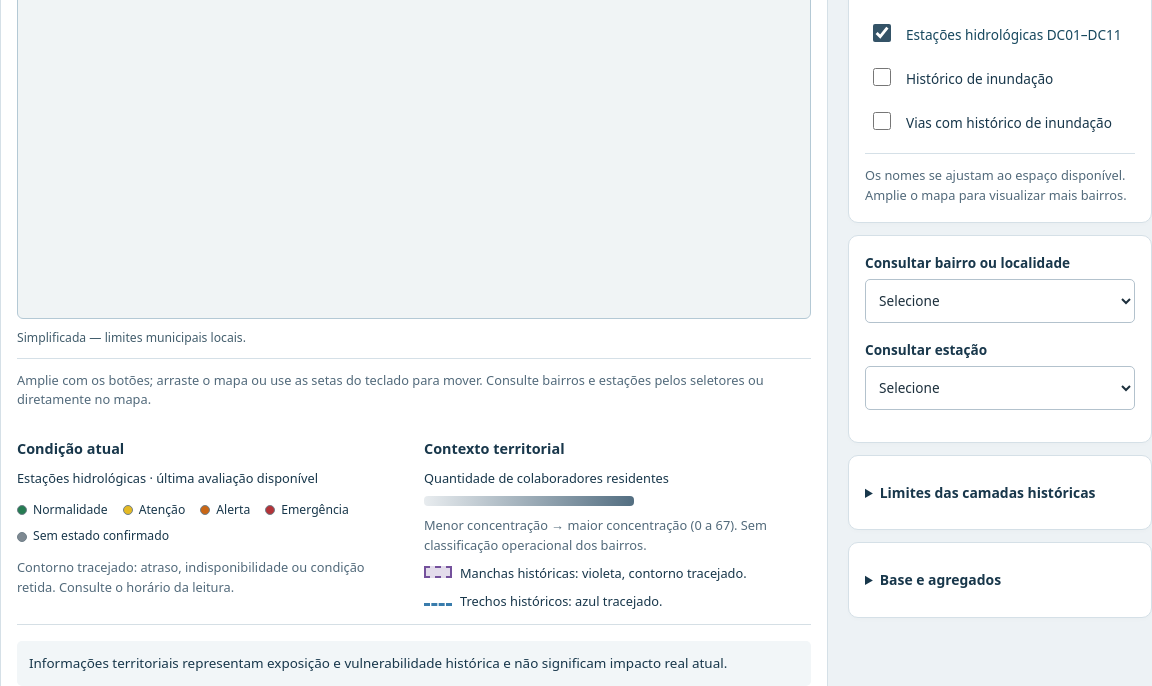
Test: Fase 07 — regressão funcional do mapa migrado › indisponibilidade preserva condição conhecida
The width and height of the screenshot is (1152, 686).
(page scrolled)
Select "DC01 · Rio Itajaí-Açu - ICMBio/CEPSUL · Emergência" in the dropdown labelled "Consultar estação" at (1000, 388), box [865, 366, 1135, 410]
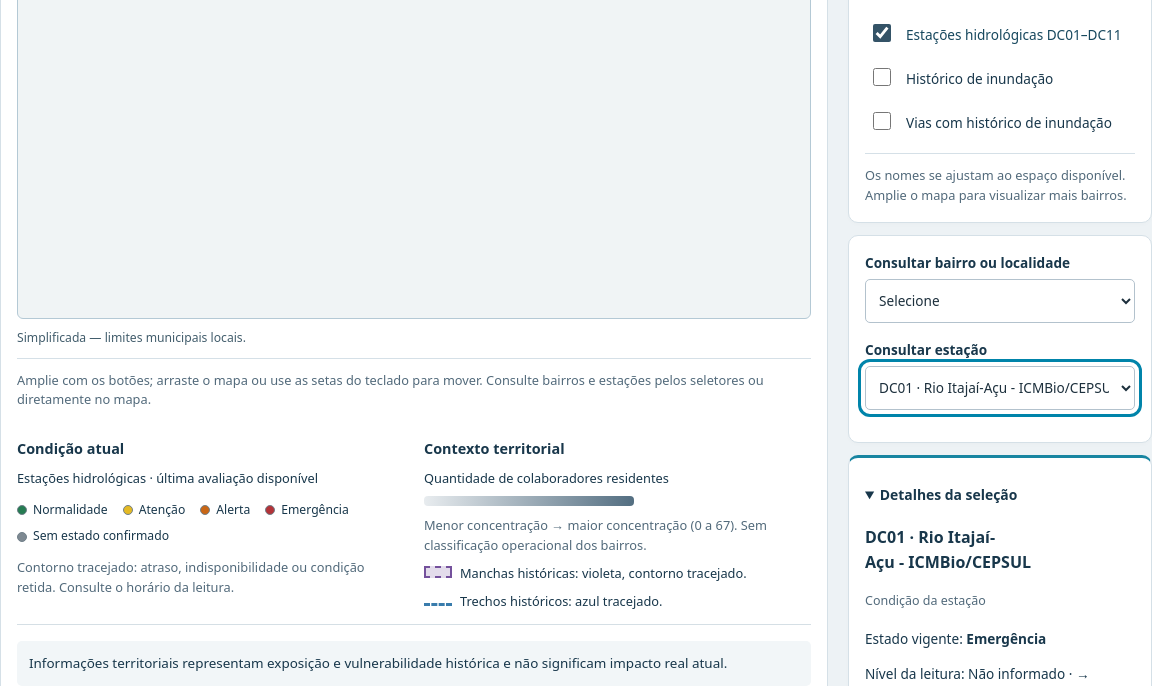
Check: the text "Emergência" is shown, box [966, 629, 1046, 648]
